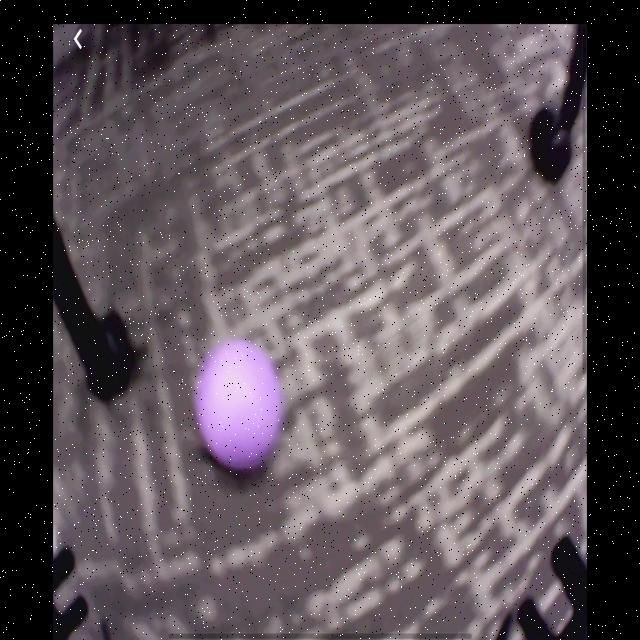ball: (199, 341, 281, 474)
